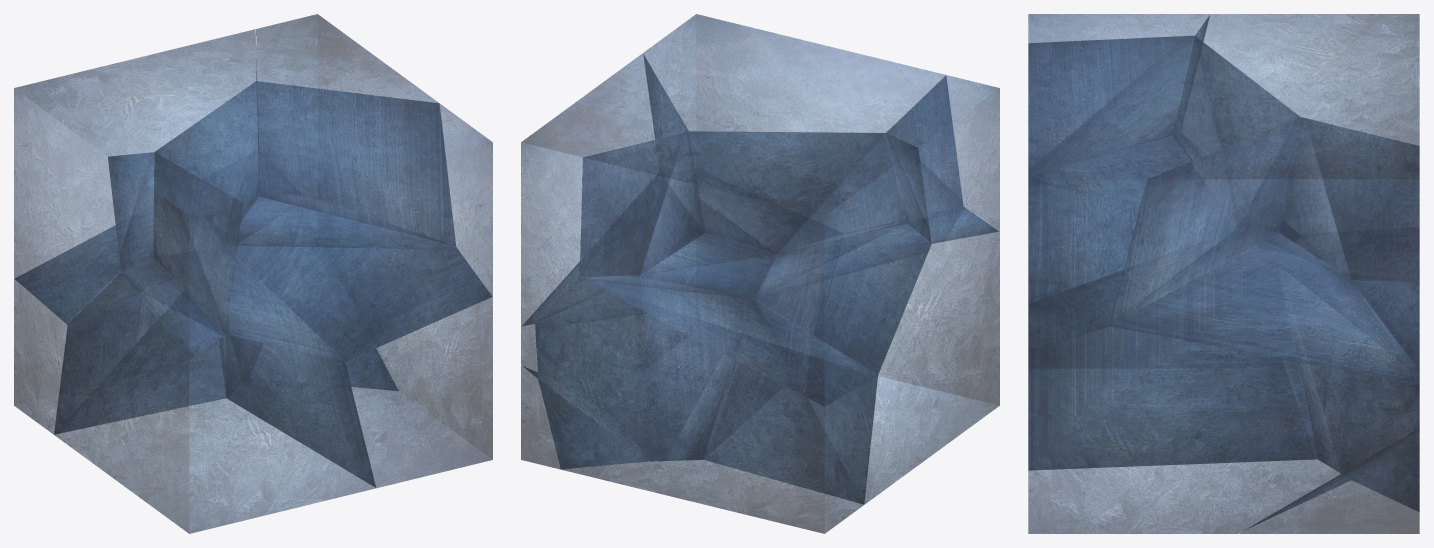
The model's file is icefrac_b.obj.
The picture shows the model from 3 angles, left to right: view 1: azimuth 30°, elevation 25°; view 2: azimuth 150°, elevation 25°; view 3: azimuth 270°, elevation 25°; orthographic projection. The views are drawn at different scales.
Parts seen in each view (by area): view 1: MemoryCubeB.003_cell.000_Mesh.023, MemoryCubeB.003_cell.001_Mesh.024, MemoryCubeB.003_cell.012_Mesh.034, MemoryCubeB.003_cell.011_Mesh.033, MemoryCubeB.003_cell.005_Mesh.027, MemoryCubeB.003_cell.008_Mesh.030, MemoryCubeB.003_cell.006_Mesh.028, MemoryCubeB.003_cell.004_Mesh.019, MemoryCubeB.003_cell.015_Mesh.038, MemoryCubeB.003_cell.007_Mesh.029, MemoryCubeB.003_cell.009_Mesh.031, MemoryCubeB.003_cell.002_Mesh.025 (+2 smaller); view 2: MemoryCubeB.003_cell.008_Mesh.030, MemoryCubeB.003_cell.007_Mesh.029, MemoryCubeB.003_cell.009_Mesh.031, MemoryCubeB.003_cell.010_Mesh.032, MemoryCubeB.003_cell.001_Mesh.024, MemoryCubeB.003_cell.012_Mesh.034, MemoryCubeB.003_cell.011_Mesh.033, MemoryCubeB.003_cell.005_Mesh.027, MemoryCubeB.003_cell.000_Mesh.023, MemoryCubeB.003_cell.003_Mesh.026, MemoryCubeB.003_cell.002_Mesh.025, MemoryCubeB.003_cell.004_Mesh.019 (+4 smaller); view 3: MemoryCubeB.003_cell.005_Mesh.027, MemoryCubeB.003_cell.000_Mesh.023, MemoryCubeB.003_cell.003_Mesh.026, MemoryCubeB.003_cell.006_Mesh.028, MemoryCubeB.003_cell.002_Mesh.025, MemoryCubeB.003_cell.001_Mesh.024, MemoryCubeB.003_cell.008_Mesh.030, MemoryCubeB.003_cell.011_Mesh.033, MemoryCubeB.003_cell.007_Mesh.029, MemoryCubeB.003_cell.015_Mesh.038, MemoryCubeB.003_cell.014_Mesh.037, MemoryCubeB.003_cell.009_Mesh.031 (+3 smaller).
Boxes of the visible parts, bbox=[...] form: MemoryCubeB.003_cell.000_Mesh.023: bbox=[154, 81, 492, 361]; MemoryCubeB.003_cell.001_Mesh.024: bbox=[156, 81, 492, 360]; MemoryCubeB.003_cell.012_Mesh.034: bbox=[54, 274, 375, 533]; MemoryCubeB.003_cell.011_Mesh.033: bbox=[54, 258, 375, 487]; MemoryCubeB.003_cell.005_Mesh.027: bbox=[219, 197, 491, 486]; MemoryCubeB.003_cell.008_Mesh.030: bbox=[14, 29, 255, 323]; MemoryCubeB.003_cell.006_Mesh.028: bbox=[289, 212, 492, 487]; MemoryCubeB.003_cell.004_Mesh.019: bbox=[108, 153, 241, 359]; MemoryCubeB.003_cell.015_Mesh.038: bbox=[108, 152, 241, 358]; MemoryCubeB.003_cell.007_Mesh.029: bbox=[15, 71, 258, 324]; MemoryCubeB.003_cell.009_Mesh.031: bbox=[15, 229, 225, 433]; MemoryCubeB.003_cell.002_Mesh.025: bbox=[256, 81, 455, 245]; MemoryCubeB.003_cell.008_Mesh.030: bbox=[580, 131, 930, 406]; MemoryCubeB.003_cell.007_Mesh.029: bbox=[580, 131, 931, 406]; MemoryCubeB.003_cell.009_Mesh.031: bbox=[535, 276, 877, 504]; MemoryCubeB.003_cell.010_Mesh.032: bbox=[535, 278, 877, 533]; MemoryCubeB.003_cell.001_Mesh.024: bbox=[643, 14, 945, 139]; MemoryCubeB.003_cell.012_Mesh.034: bbox=[864, 232, 999, 504]; MemoryCubeB.003_cell.011_Mesh.033: bbox=[704, 207, 998, 501]; MemoryCubeB.003_cell.005_Mesh.027: bbox=[522, 233, 776, 460]; MemoryCubeB.003_cell.000_Mesh.023: bbox=[644, 55, 962, 254]; MemoryCubeB.003_cell.003_Mesh.026: bbox=[521, 53, 687, 325]; MemoryCubeB.003_cell.002_Mesh.025: bbox=[522, 55, 704, 325]; MemoryCubeB.003_cell.004_Mesh.019: bbox=[886, 75, 999, 242]; MemoryCubeB.003_cell.005_Mesh.027: bbox=[1028, 233, 1419, 531]; MemoryCubeB.003_cell.000_Mesh.023: bbox=[1028, 36, 1299, 351]; MemoryCubeB.003_cell.003_Mesh.026: bbox=[1111, 117, 1419, 384]; MemoryCubeB.003_cell.006_Mesh.028: bbox=[1028, 327, 1419, 533]; MemoryCubeB.003_cell.002_Mesh.025: bbox=[1111, 117, 1419, 384]; MemoryCubeB.003_cell.001_Mesh.024: bbox=[1028, 36, 1299, 350]; MemoryCubeB.003_cell.008_Mesh.030: bbox=[1195, 14, 1419, 145]; MemoryCubeB.003_cell.011_Mesh.033: bbox=[1029, 136, 1316, 469]; MemoryCubeB.003_cell.007_Mesh.029: bbox=[1173, 16, 1419, 281]; MemoryCubeB.003_cell.015_Mesh.038: bbox=[1029, 15, 1209, 174]; MemoryCubeB.003_cell.014_Mesh.037: bbox=[1239, 429, 1419, 533]; MemoryCubeB.003_cell.009_Mesh.031: bbox=[1300, 281, 1418, 479].
Size of the model in its own units: 2 by 2 by 2.
Materials: 1 (1 with a texture image).
